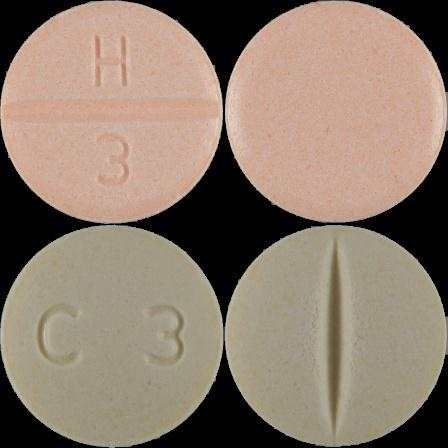16729-184: (0, 0, 224, 224)
